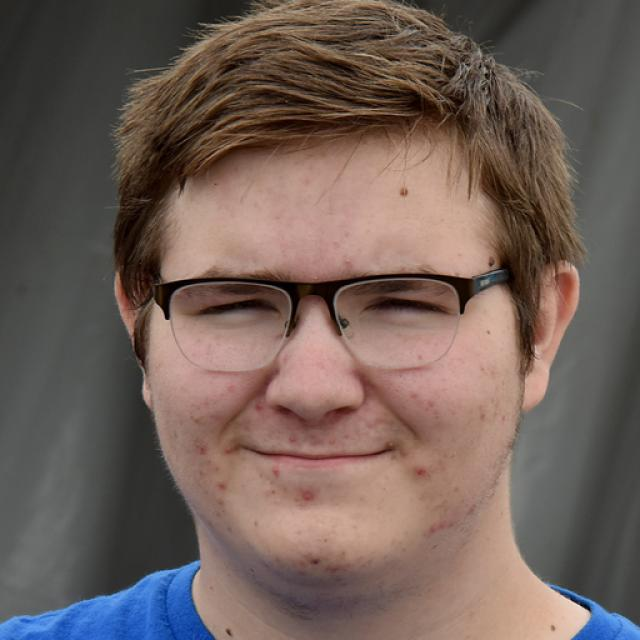Acne: (208, 471, 236, 504), (281, 426, 311, 449), (260, 463, 290, 484), (296, 269, 324, 286), (395, 181, 418, 201), (334, 252, 358, 271), (249, 397, 270, 418), (220, 442, 236, 467), (383, 436, 399, 455)
Spots: (399, 385, 449, 421), (417, 508, 460, 542), (185, 431, 211, 461), (411, 466, 445, 484), (296, 487, 321, 509)
